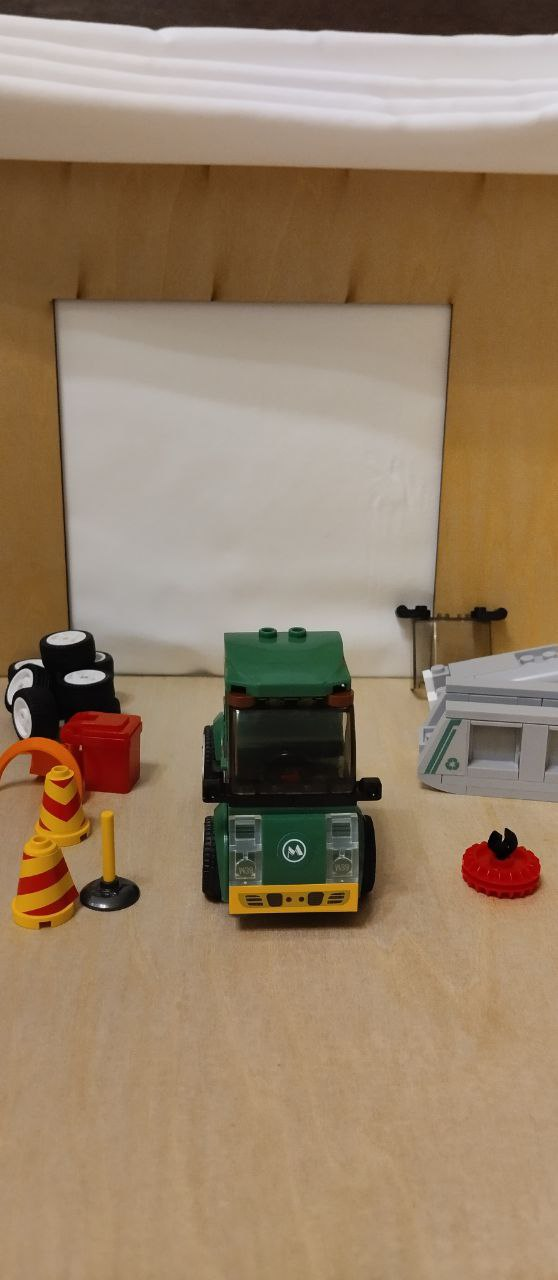Cone: (13, 834, 93, 939), (31, 769, 97, 840)
Object Red: (56, 712, 155, 802)
Truck: (185, 618, 393, 938)
